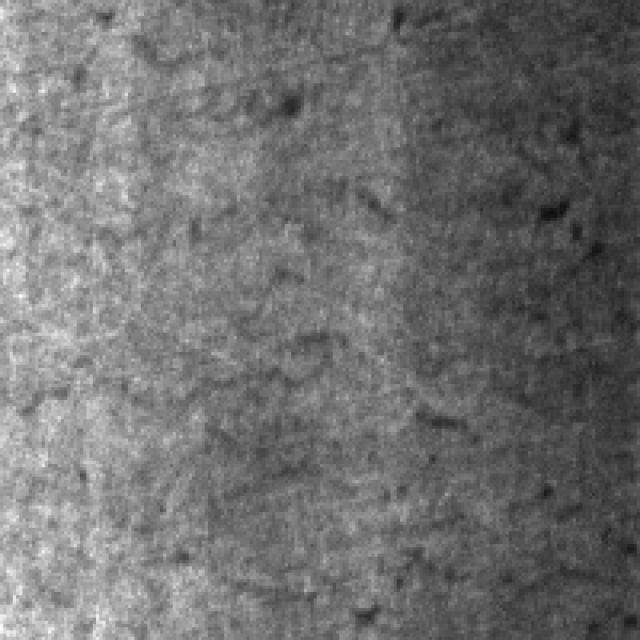crazing: (387, 128, 637, 634), (10, 262, 339, 630)
